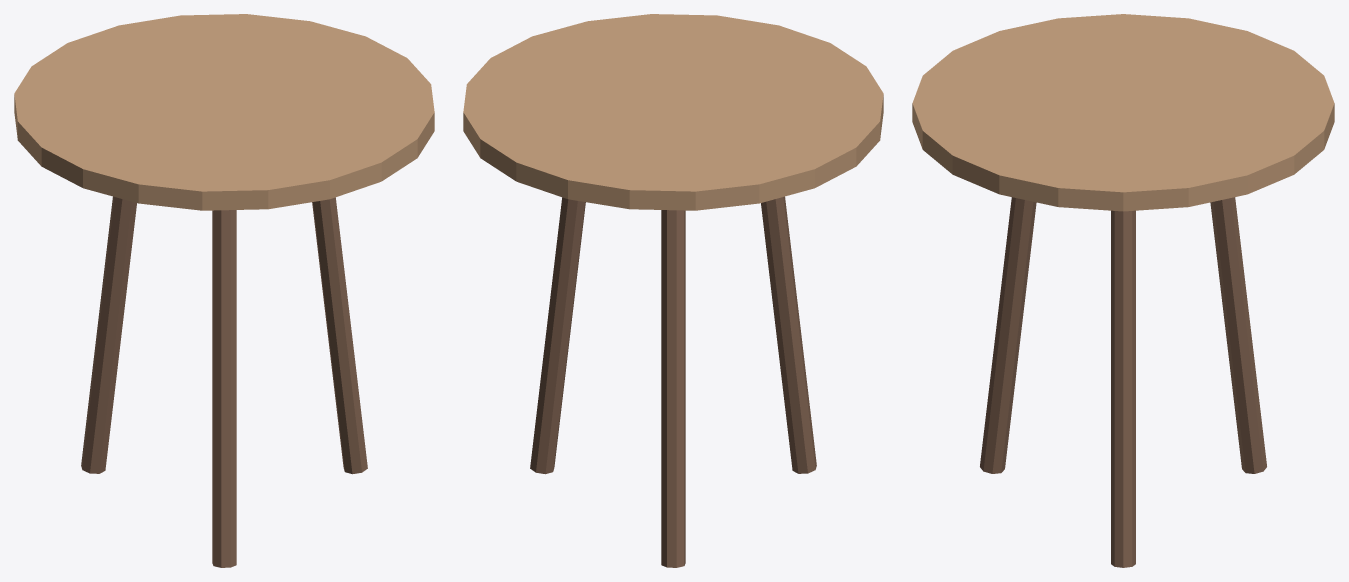
Rendered from hh_side_table.glb.
The picture shows the model from 3 angles, left to right: view 1: azimuth 30°, elevation 25°; view 2: azimuth 150°, elevation 25°; view 3: azimuth 270°, elevation 25°; orthographic projection.
Parts seen in each view (by area): view 1: top, leg.002, leg.001, leg; view 2: top, leg.001, leg.002, leg; view 3: top, leg, leg.001, leg.002.
Boxes of the visible parts, bbox=[...] form: top: bbox=[14, 14, 434, 210]; leg.002: bbox=[212, 210, 236, 567]; leg.001: bbox=[81, 196, 136, 473]; leg: bbox=[312, 197, 367, 474]; top: bbox=[463, 14, 883, 210]; leg.001: bbox=[661, 210, 685, 567]; leg.002: bbox=[761, 196, 816, 473]; leg: bbox=[530, 197, 585, 474]; top: bbox=[912, 14, 1334, 211]; leg: bbox=[1111, 210, 1135, 567]; leg.001: bbox=[1210, 197, 1266, 473]; leg.002: bbox=[980, 197, 1036, 473].
Bounding box in the file's own units: 0.5 × 0.5205 × 0.5.
